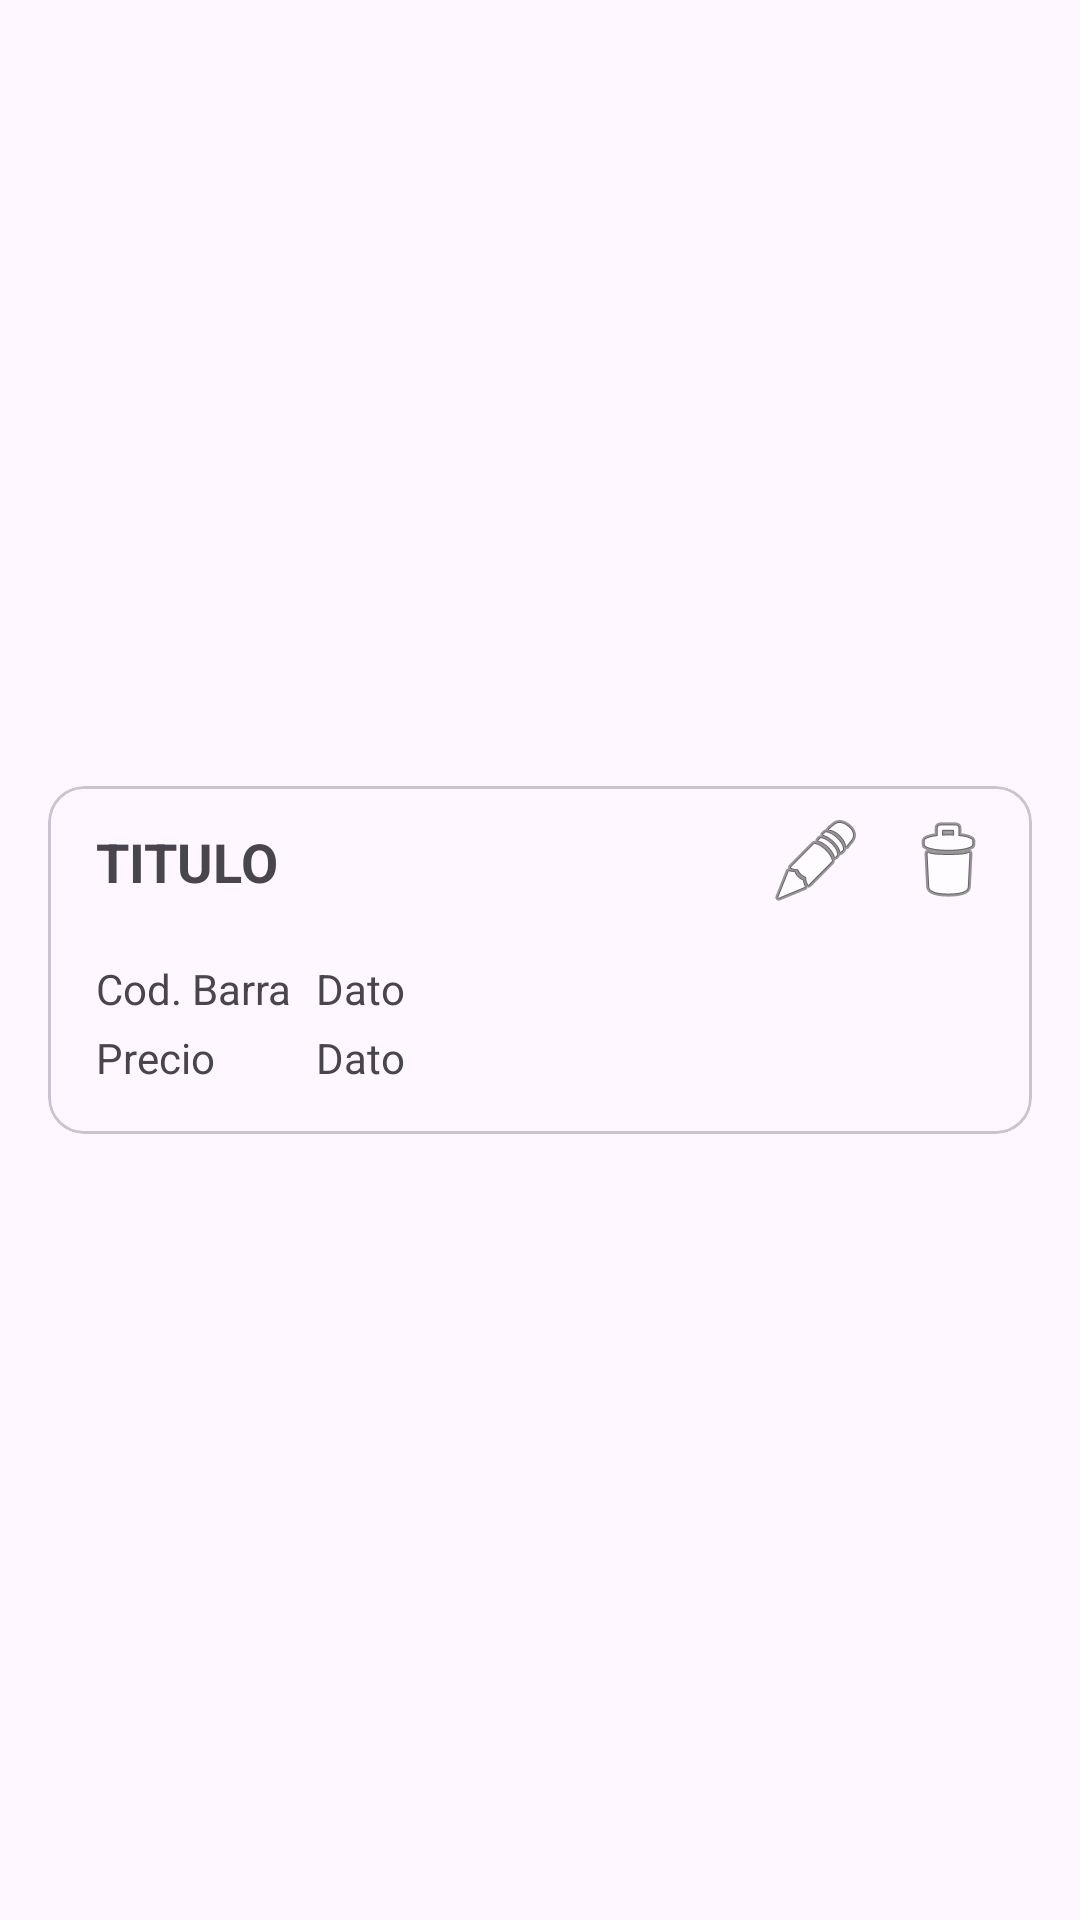

Where icons sit on this 1080×1920 app screen, as [x1=x1, y1=y1, x2=x2, y2=y2]:
delete: [x1=921, y1=822, x2=976, y2=897]
edit: [x1=775, y1=820, x2=856, y2=901]
